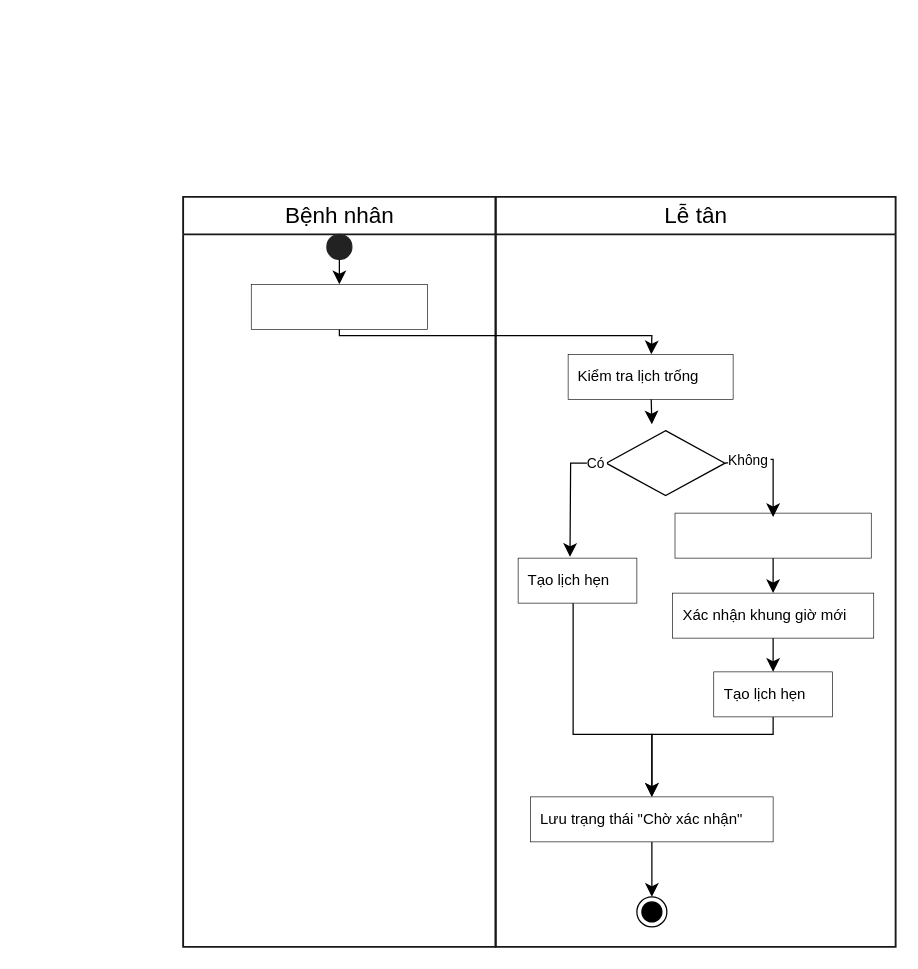
The diagram is 918 pixels wide and 969 high, and some of its shapes have lost their labels. The shapes that lost their labels are listed below. From the top down, each one's centre as x and y in pixels, then its label:
At [338,306]: "Yêu cầu đặt lịch hẹn".
At [665,462]: "Còn khung giờ trống?".
At [772,535]: "Đề xuất khung giờ khác".
